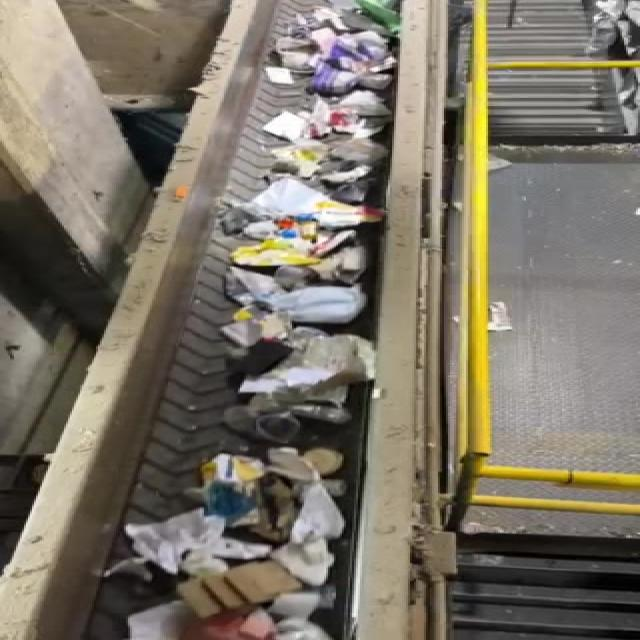paper: (185, 442, 359, 540), (112, 516, 244, 570), (178, 566, 322, 612)
